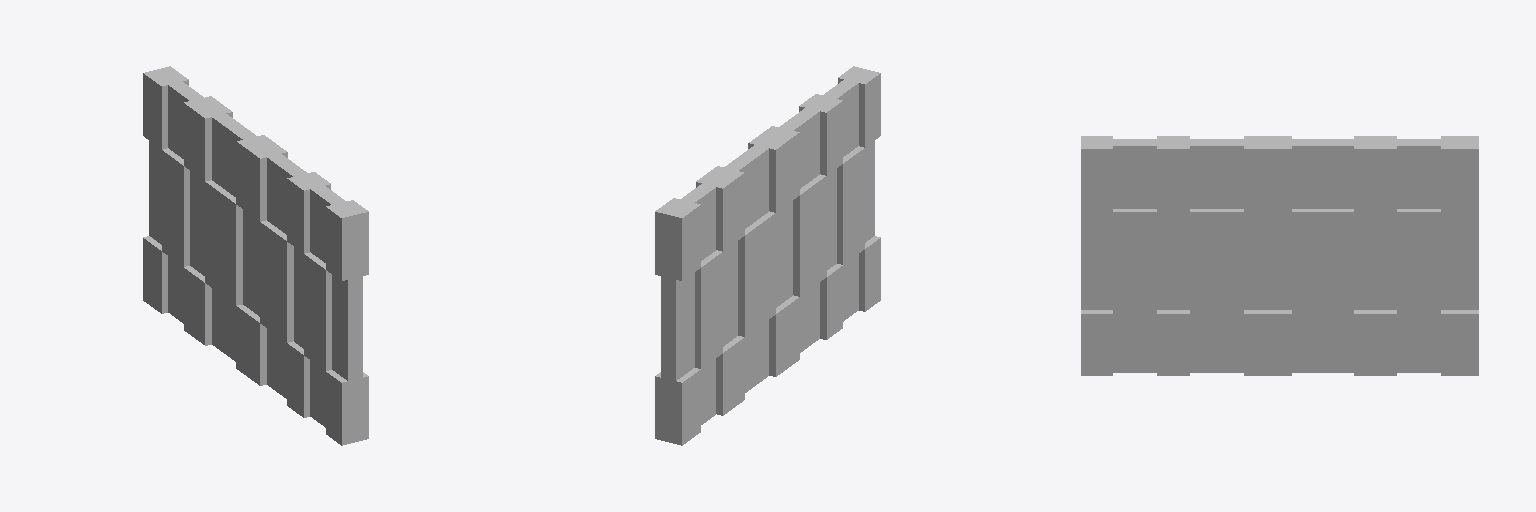
File: drzwi2.obj
The picture shows the model from 3 angles: view 1: azimuth 30°, elevation 25°; view 2: azimuth 150°, elevation 25°; view 3: azimuth 270°, elevation 25°; orthographic projection.
Visible parts, largest first — view 1: Drzwi.NR2_Cube.047; view 2: Drzwi.NR2_Cube.047; view 3: Drzwi.NR2_Cube.047.
Part boxes in pixels (x1,y1,x2,y2): Drzwi.NR2_Cube.047: (143, 66, 368, 445); Drzwi.NR2_Cube.047: (655, 66, 880, 445); Drzwi.NR2_Cube.047: (1081, 136, 1478, 375).
Size of the model in its own units: 0.7579 by 6 by 9.5.